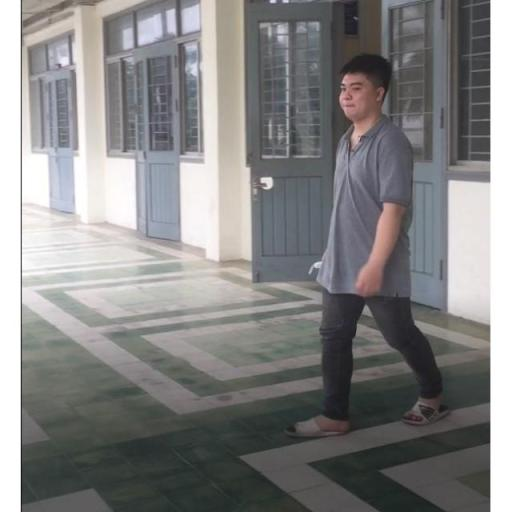Running: (274, 42, 454, 450)
